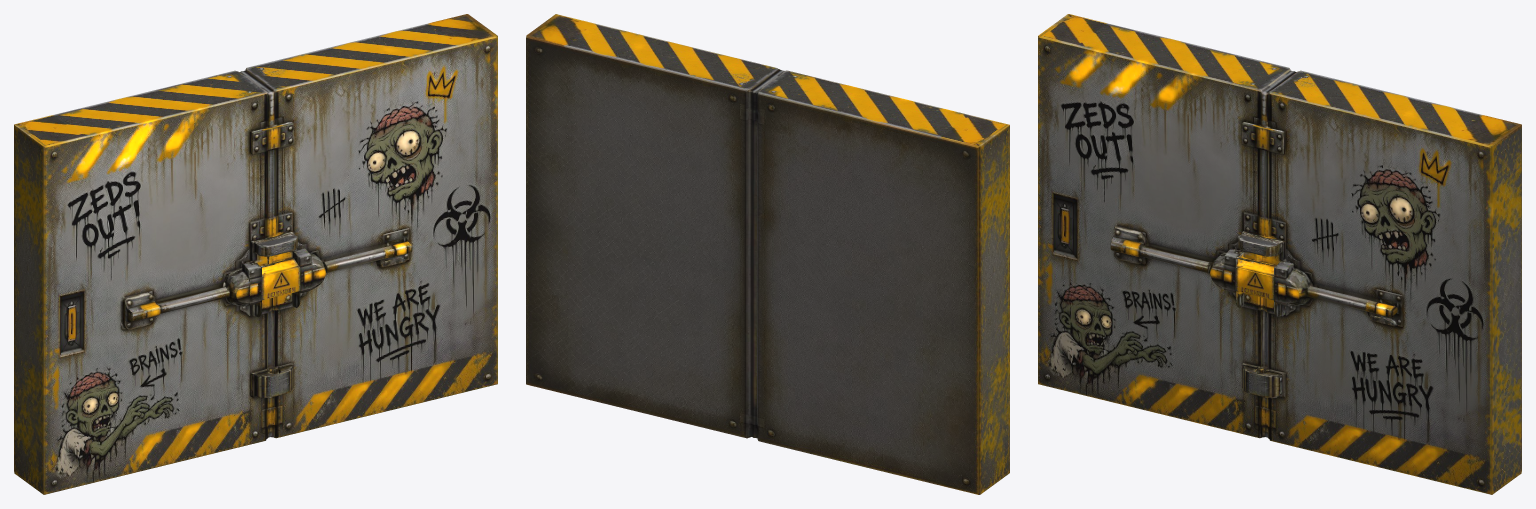
Rendered from Concrete_large_Door_1.glb.
3 views of the same model, side by side, from view 1: azimuth 30°, elevation 25°; view 2: azimuth 150°, elevation 25°; view 3: azimuth 330°, elevation 25° (orthographic).
Bounding box in the file's own units: 1.91 × 1.4 × 0.3053.
Materials: 1 (1 with a texture image).
